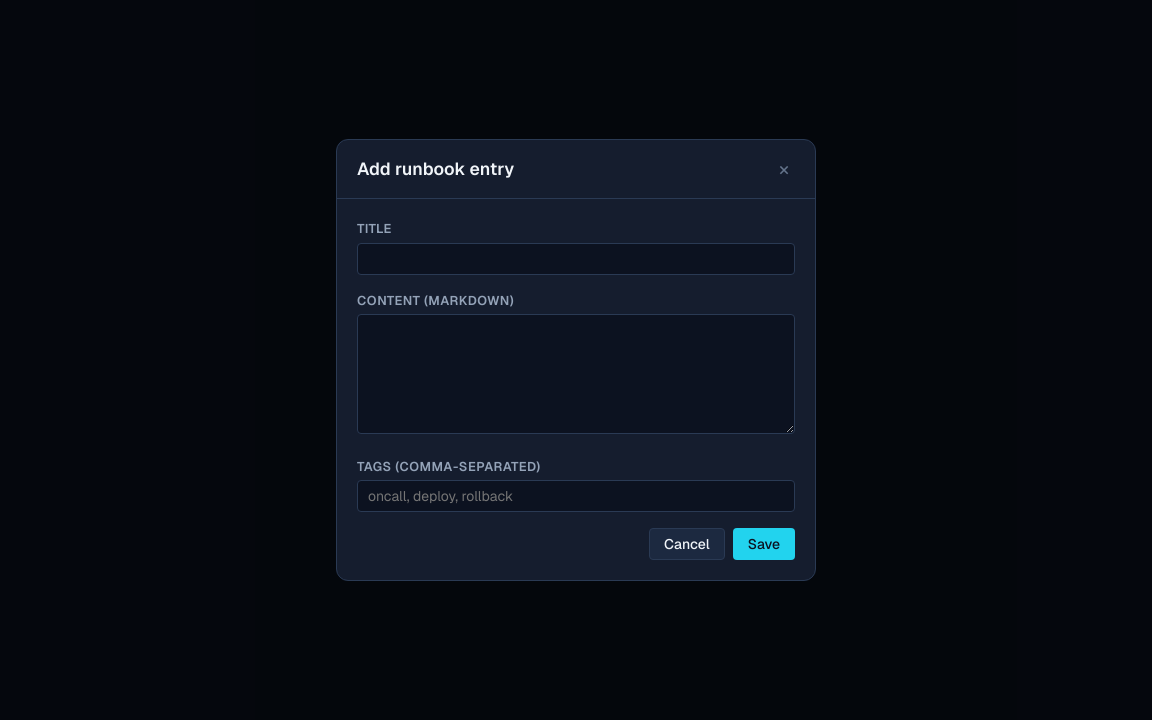
Test: RunbookEditor › shows a validation error when required fields are missing
This screenshot has width=1152, height=720.
Click the button "Save" at [764, 544], box [733, 528, 795, 560]
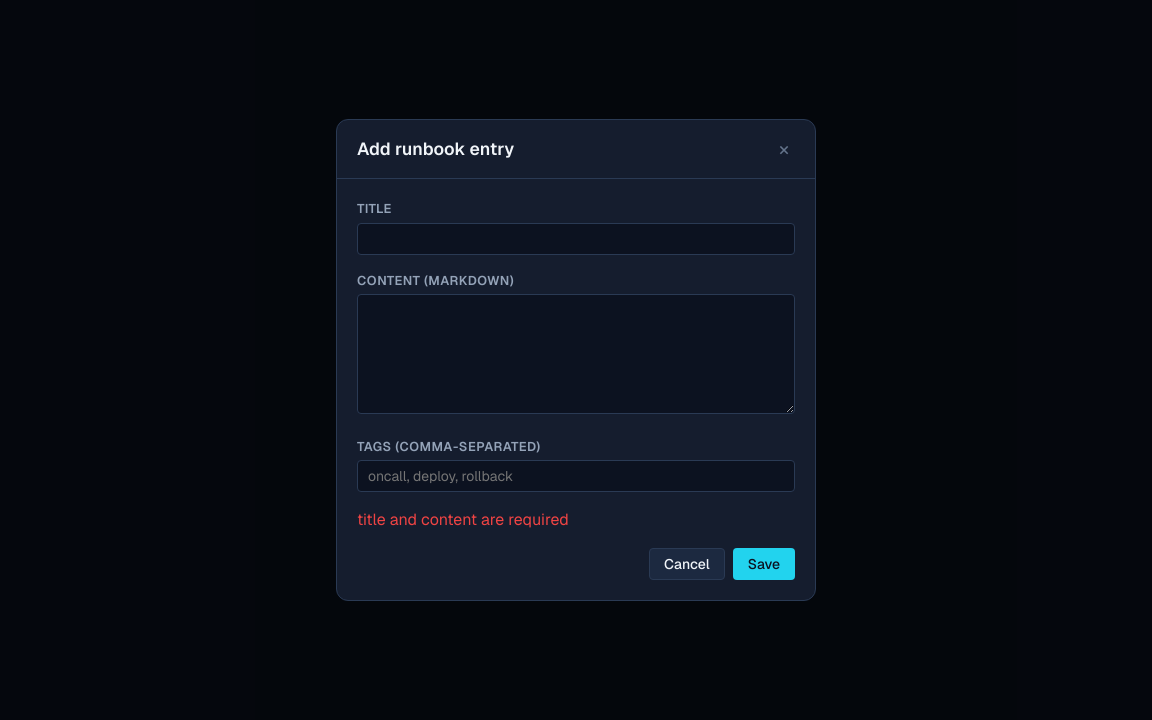
Check: the text "title and content are required" is shown, box [357, 509, 569, 530]
